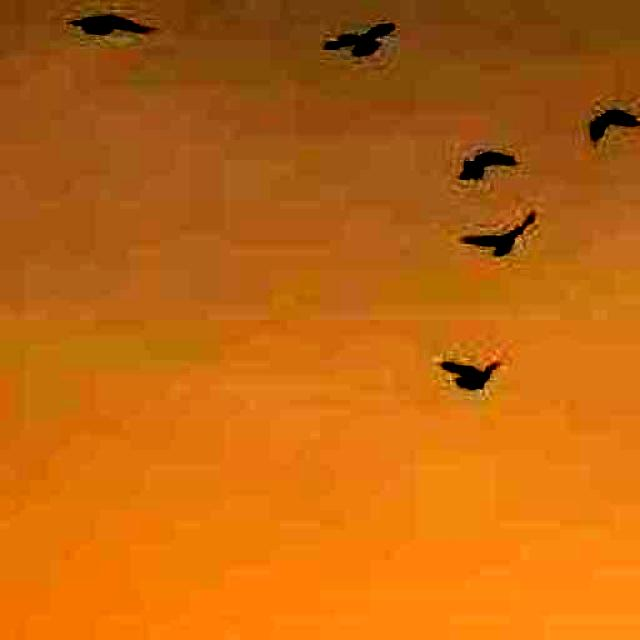airplane: (464, 212, 538, 256), (328, 24, 394, 54), (69, 14, 159, 36), (441, 359, 502, 389), (590, 112, 640, 146), (464, 152, 520, 180)
